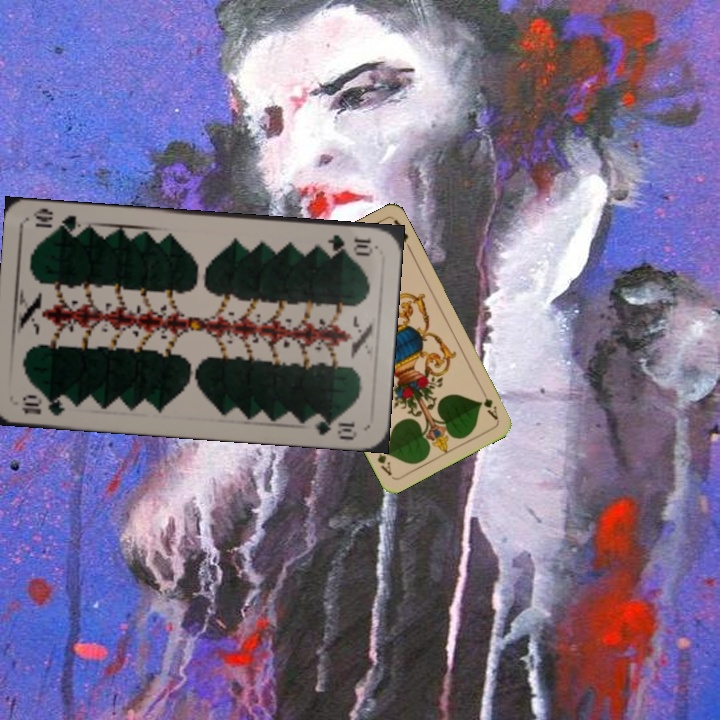G10: (324, 230, 376, 257), (18, 391, 67, 419)
GA: (477, 385, 501, 423)
